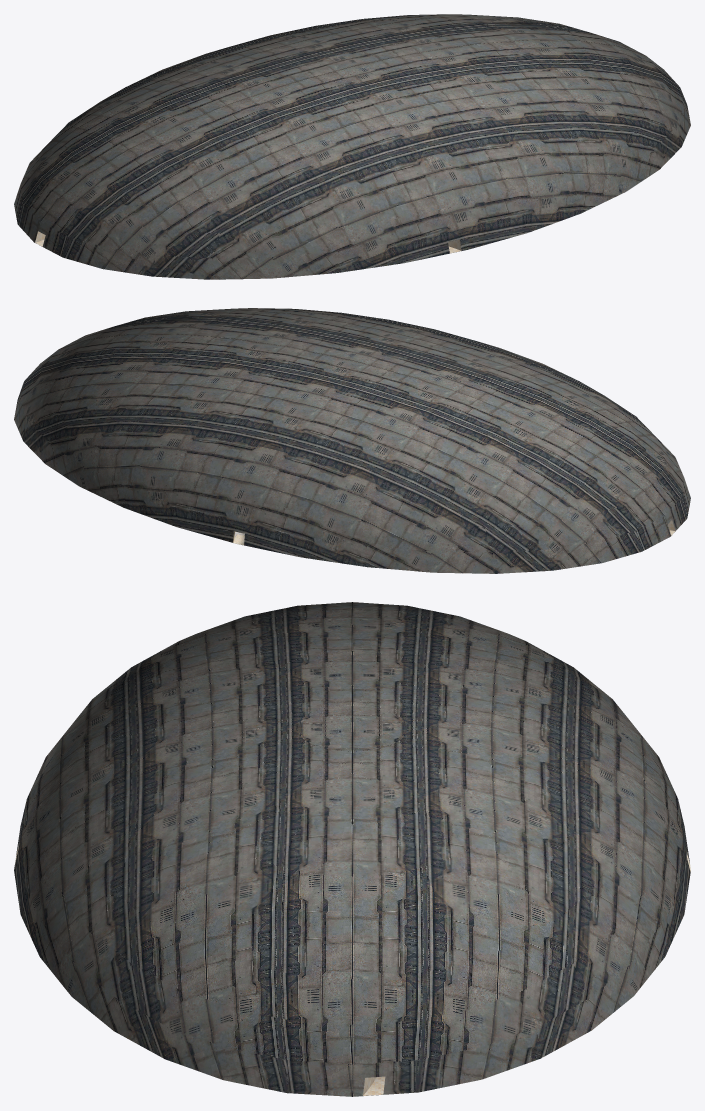
File: home_type1_touch.FBX
3 views of the same model, one above another, from view 1: azimuth 30°, elevation 25°; view 2: azimuth 150°, elevation 25°; view 3: azimuth 270°, elevation 25° (orthographic). The views are drawn at different scales.
Parts seen in each view (by area): view 1: main; view 2: main; view 3: main.
Boxes of the visible parts, <box> form: main: <box>14,14,690,279</box>; main: <box>14,308,690,573</box>; main: <box>14,602,690,1096</box>.
Bounding box in the file's own units: 1181 × 175 × 745.
Materials: 6 (6 with a texture image).
